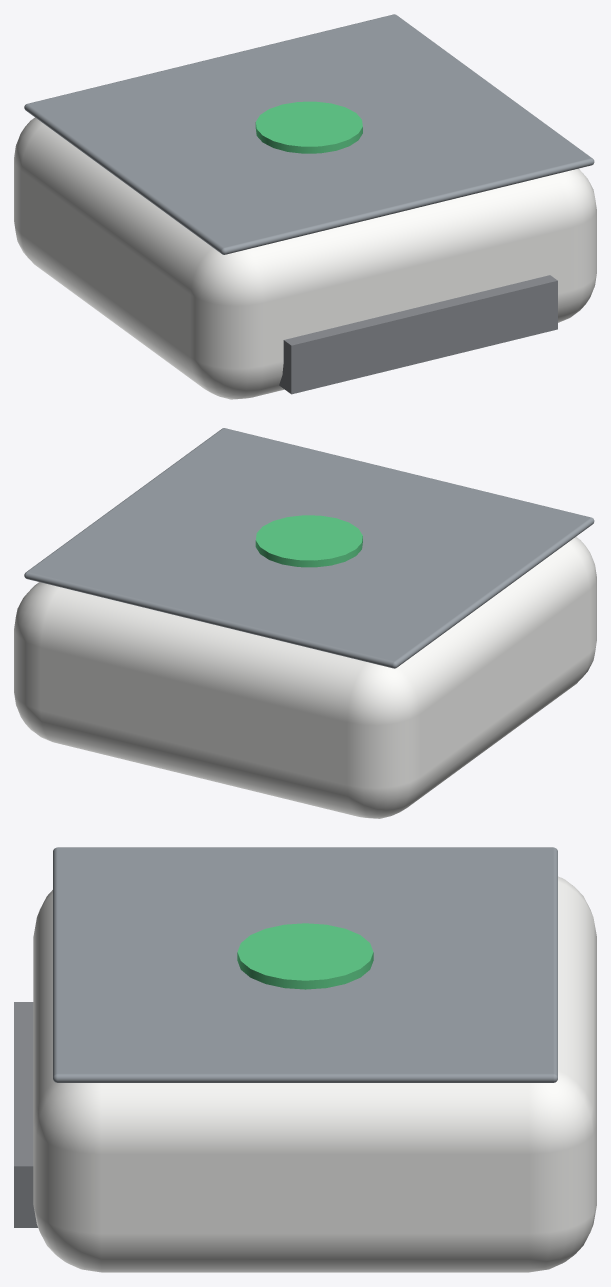
Rendered from gateway.glb.
3 renders of one model, top to bottom at view 1: azimuth 30°, elevation 25°; view 2: azimuth 150°, elevation 25°; view 3: azimuth 270°, elevation 25°, orthographic. The views are drawn at different scales.
Parts seen in each view (by area): view 1: material-0-body, material-1-trim, material-3-metal, material-2-lit; view 2: material-0-body, material-1-trim, material-2-lit; view 3: material-0-body, material-1-trim, material-2-lit, material-3-metal.
Part boxes in pixels (left/top/right/bottom): material-0-body: left=14, top=117, right=596, bottom=399; material-1-trim: left=24, top=14, right=594, bottom=254; material-3-metal: left=279, top=275, right=557, bottom=394; material-2-lit: left=255, top=101, right=362, bottom=153; material-0-body: left=14, top=537, right=596, bottom=818; material-1-trim: left=24, top=428, right=594, bottom=668; material-2-lit: left=255, top=515, right=362, bottom=567; material-0-body: left=33, top=876, right=596, bottom=1272; material-1-trim: left=53, top=847, right=557, bottom=1082; material-2-lit: left=237, top=923, right=373, bottom=989; material-3-metal: left=14, top=1002, right=37, bottom=1227.
Bounding box in the file's own units: 0.12 × 0.05 × 0.12.
